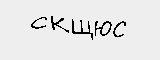К: (49, 14, 68, 34)
С: (112, 19, 127, 41), (29, 15, 47, 31)
Щ: (70, 19, 93, 40)
Ю: (91, 17, 113, 39)
